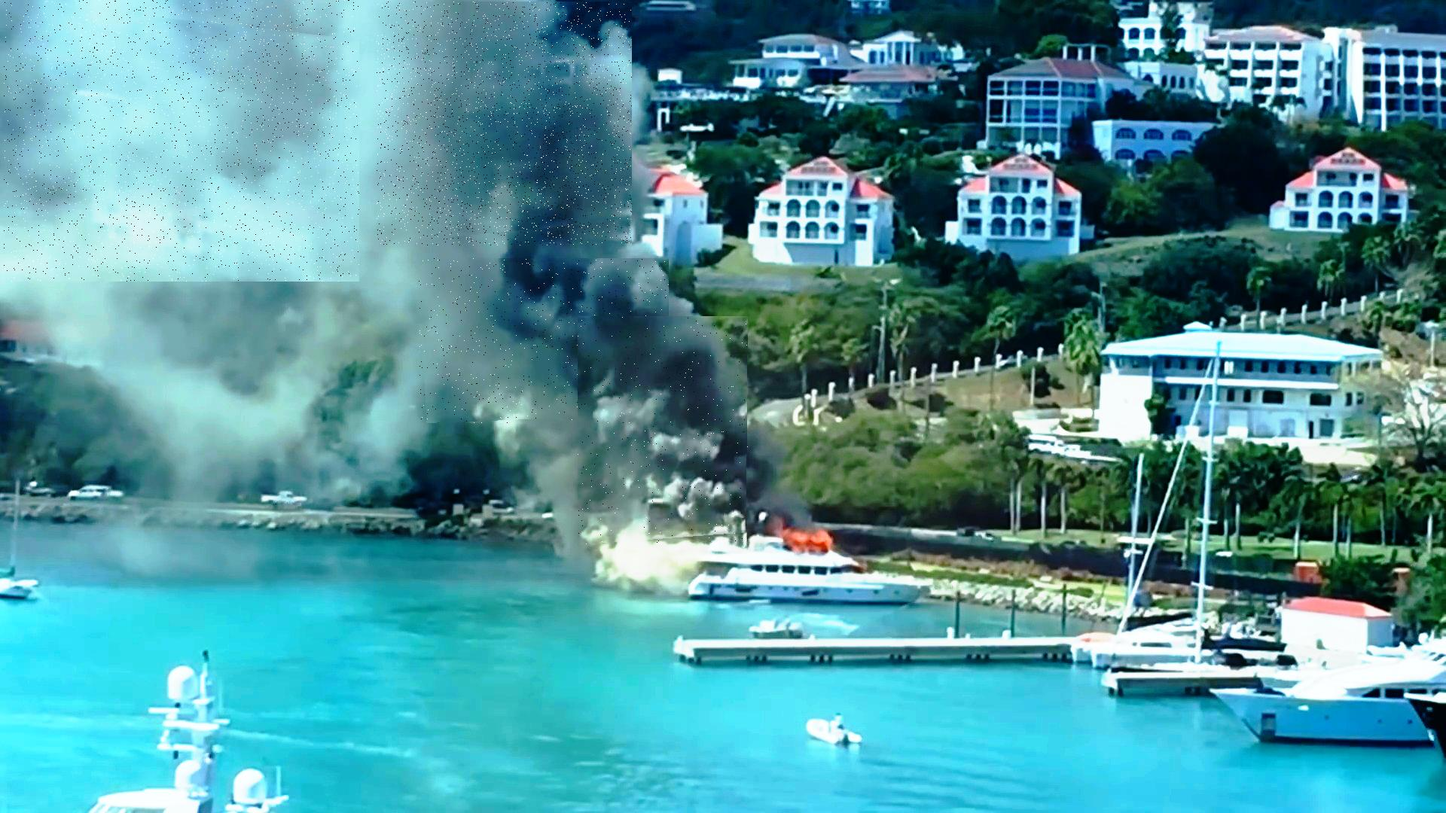smoke: (4, 0, 359, 282), (377, 2, 632, 246), (418, 258, 669, 423), (578, 317, 748, 545)
